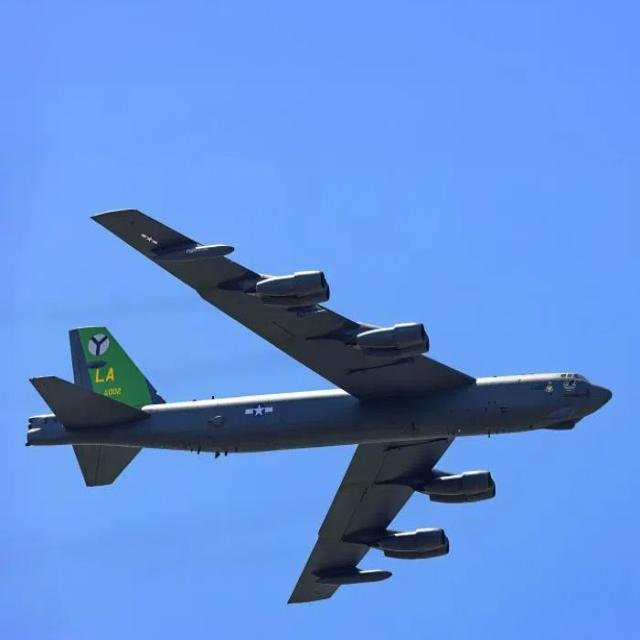B52: (0, 174, 640, 628)
